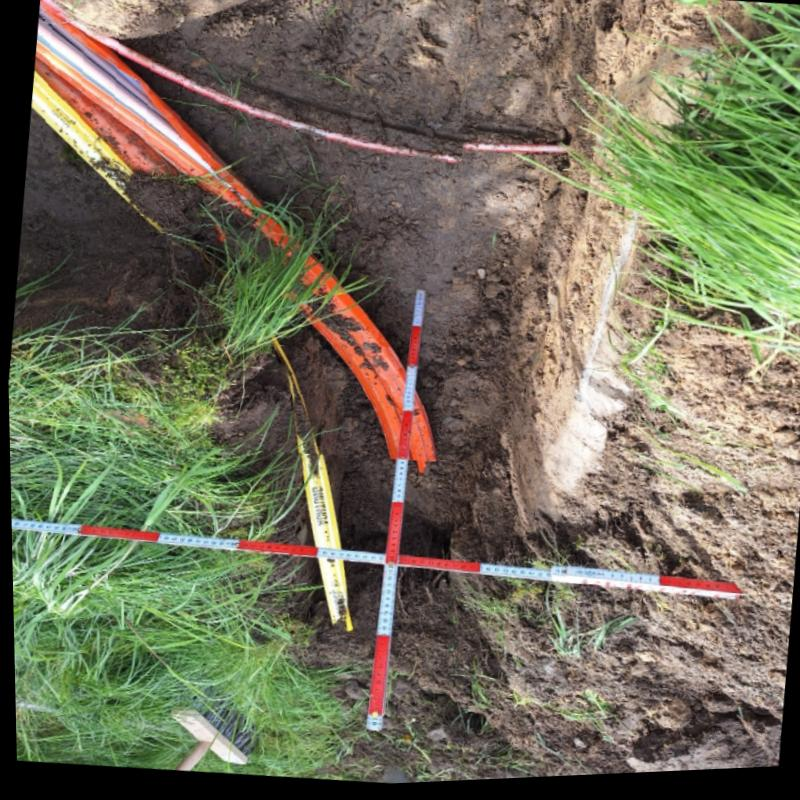Orang-Speednetrohrchen: (35, 12, 435, 465)
